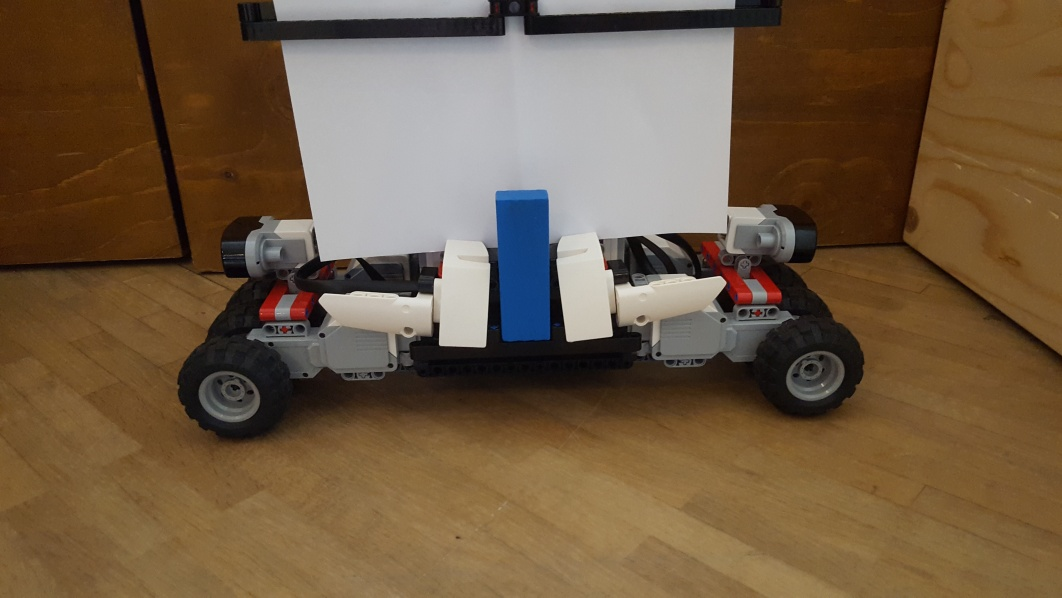beam: (494, 188, 557, 344)
